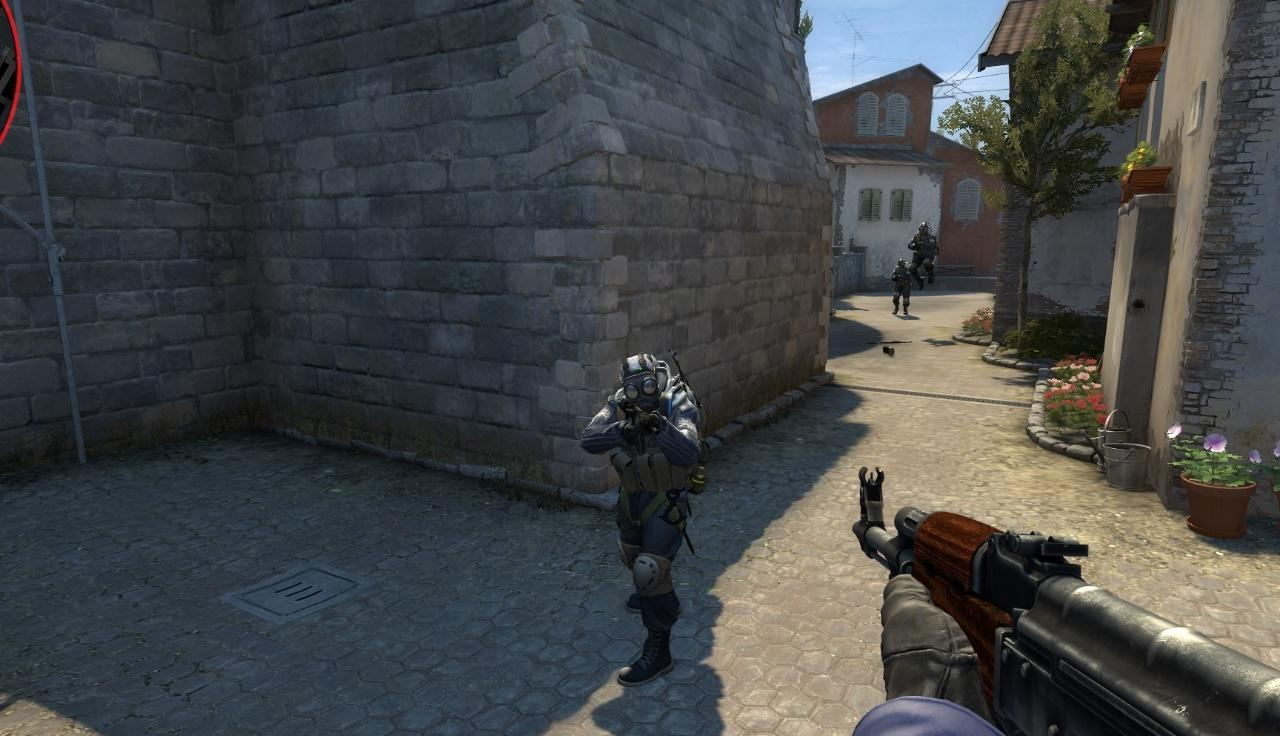ct: (604, 350, 702, 679), (914, 221, 936, 285), (893, 259, 911, 313)
cthead: (614, 352, 666, 411), (919, 222, 930, 234), (898, 259, 905, 269)
rifle: (853, 468, 1280, 736)
